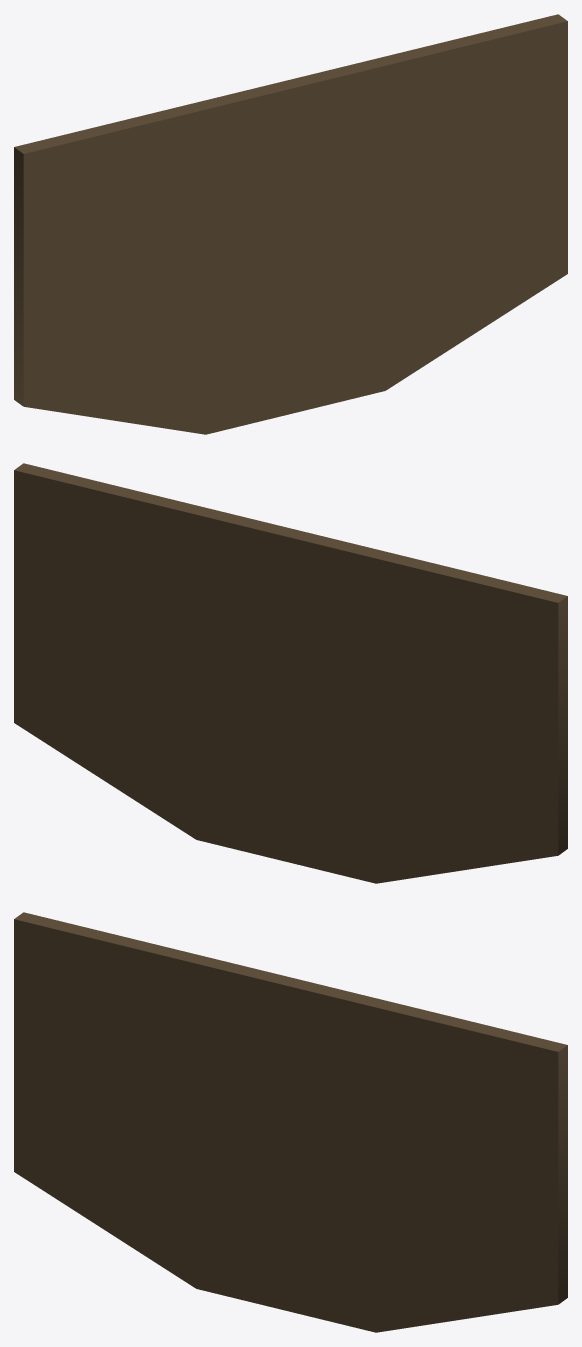
File: TableTop.fbx
3 renders of one model, top to bottom at view 1: azimuth 30°, elevation 25°; view 2: azimuth 150°, elevation 25°; view 3: azimuth 330°, elevation 25°, orthographic.
Parts seen in each view (by area): view 1: polySurface6; view 2: polySurface6; view 3: polySurface6.
Boxes of the visible parts, box(x1,y1,x2,y2) form: polySurface6: box(14, 14, 567, 434); polySurface6: box(14, 463, 567, 883); polySurface6: box(14, 912, 567, 1332).
Bounding box in the file's own units: 227 × 130 × 6.9.
